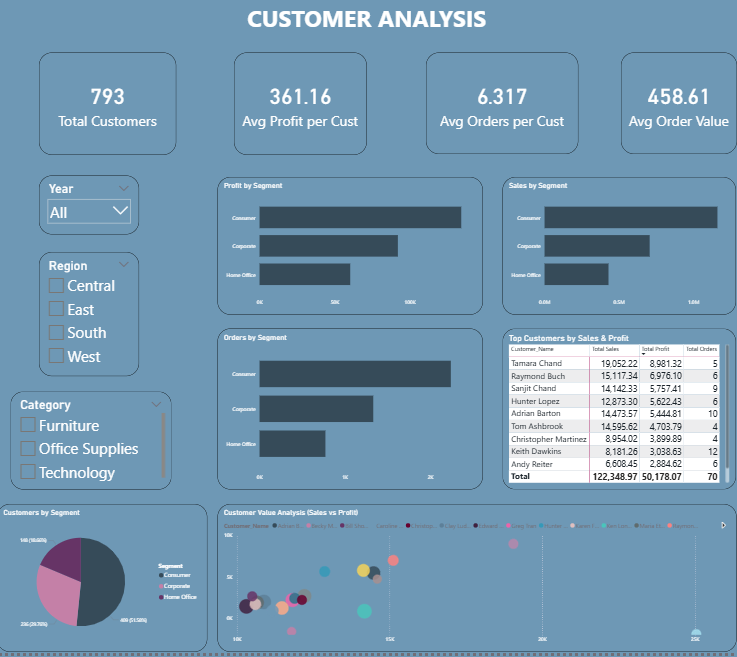

The page's visual inventory and layout, read from the dashboard file:
{"tool":"powerbi","page":{"name":"CUSTOMER ANALYSIS","canvas":[1700,1500],"ordinal":2},"visuals":[{"type":"slicer","fields":{"Values":["DateTable.Year"]},"box":[95,405,230,135],"z":0},{"type":"slicer","fields":{"Values":["Superstore.Region"]},"box":[95,580,230,285],"z":1000},{"type":"slicer","fields":{"Values":["Superstore.Category"]},"box":[30,900,370,225],"z":2000},{"type":"barChart","title":"Profit by Segment","fields":{"Y":["DateTable.Total Profit"],"Category":["Superstore.Segment"]},"box":[506.7,406.7,610,316.7],"z":3000},{"type":"barChart","title":"Sales by Segment","fields":{"Y":["Superstore.Total Sales"],"Category":["Superstore.Segment"]},"box":[1163.3,406.7,536.7,316.7],"z":4000},{"type":"barChart","title":"Orders by Segment","fields":{"Y":["DateTable.Total Orders"],"Category":["Superstore.Segment"]},"box":[506.7,756.7,610,370],"z":5000},{"type":"card","fields":{"Values":["DateTable.Avg Order Value"]},"box":[1433.3,120,266.7,233.3],"z":6000},{"type":"card","fields":{"Values":["DateTable.Avg Profit per Customer"]},"box":[545,120,305,235],"z":7000},{"type":"pivotTable","title":"Top Customers by Sales & Profit","fields":{"Rows":["Superstore.Customer_Name"],"Values":["Superstore.Total Sales","DateTable.Total Profit","DateTable.Total Orders"]},"box":[1163.3,756.7,536.7,370],"z":8000},{"type":"card","fields":{"Values":["DateTable.Avg Orders per Customer"]},"box":[986.7,120,350,233.3],"z":9000},{"type":"card","fields":{"Values":["DateTable.Total Customers"]},"box":[95,120,315,235],"z":10000},{"type":"scatterChart","title":"Customer Value Analysis (Sales vs Profit)","fields":{"Y":["DateTable.Total Profit"],"X":["Superstore.Total Sales"],"Series":["Superstore.Customer_Name"],"Size":["DateTable.Total Orders"]},"box":[506.7,1160,1193.3,340],"z":11000},{"type":"pieChart","title":"Customers by Segment","fields":{"Category":["Superstore.Segment"],"Y":["DateTable.Total Customers"]},"box":[0,1160,483.3,340],"z":12000},{"type":"textbox","box":[0,0,1700,120],"z":13000}]}

Visuals, with their boxes in screenshot pixels (x1, y1, x2, y2), scaled from the page's 1700x1500 canvas onto the 737x657 screenshot:
slicer - DateTable.Year: crop(41, 177, 141, 237)
slicer - Superstore.Region: crop(41, 254, 141, 379)
slicer - Superstore.Category: crop(13, 394, 173, 493)
"Profit by Segment" barChart: crop(220, 178, 484, 317)
"Sales by Segment" barChart: crop(504, 178, 736, 317)
"Orders by Segment" barChart: crop(220, 331, 484, 493)
card - DateTable.Avg Order Value: crop(621, 53, 736, 155)
card - DateTable.Avg Profit per Customer: crop(236, 53, 368, 155)
"Top Customers by Sales & Profit" pivotTable: crop(504, 331, 736, 493)
card - DateTable.Avg Orders per Customer: crop(428, 53, 579, 155)
card - DateTable.Total Customers: crop(41, 53, 178, 155)
"Customer Value Analysis (Sales vs Profit)" scatterChart: crop(220, 508, 736, 656)
"Customers by Segment" pieChart: crop(0, 508, 210, 656)
textbox: crop(0, 0, 736, 53)
